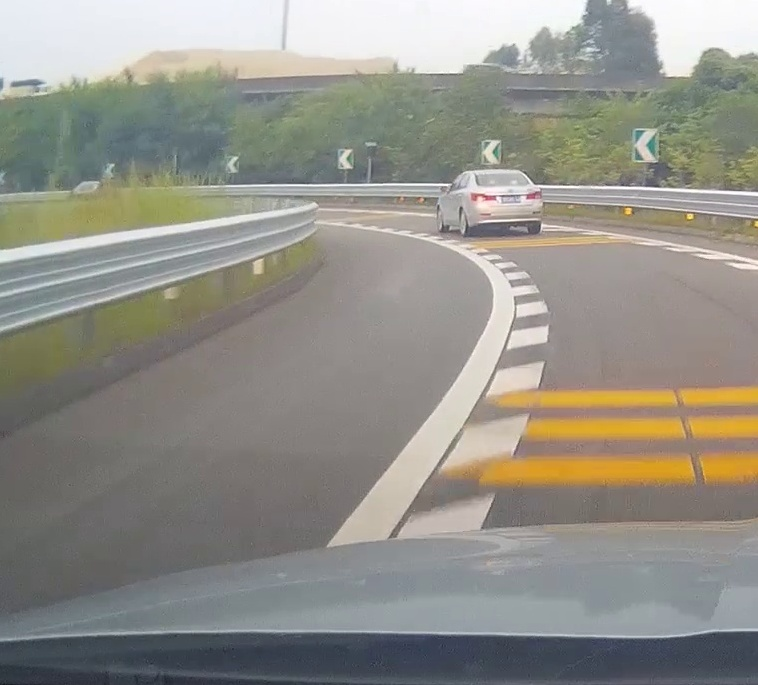L_light: (470, 193, 496, 201)
R_light: (526, 191, 542, 199)
T_light: (501, 182, 511, 186)
day-left: (470, 169, 543, 237)
